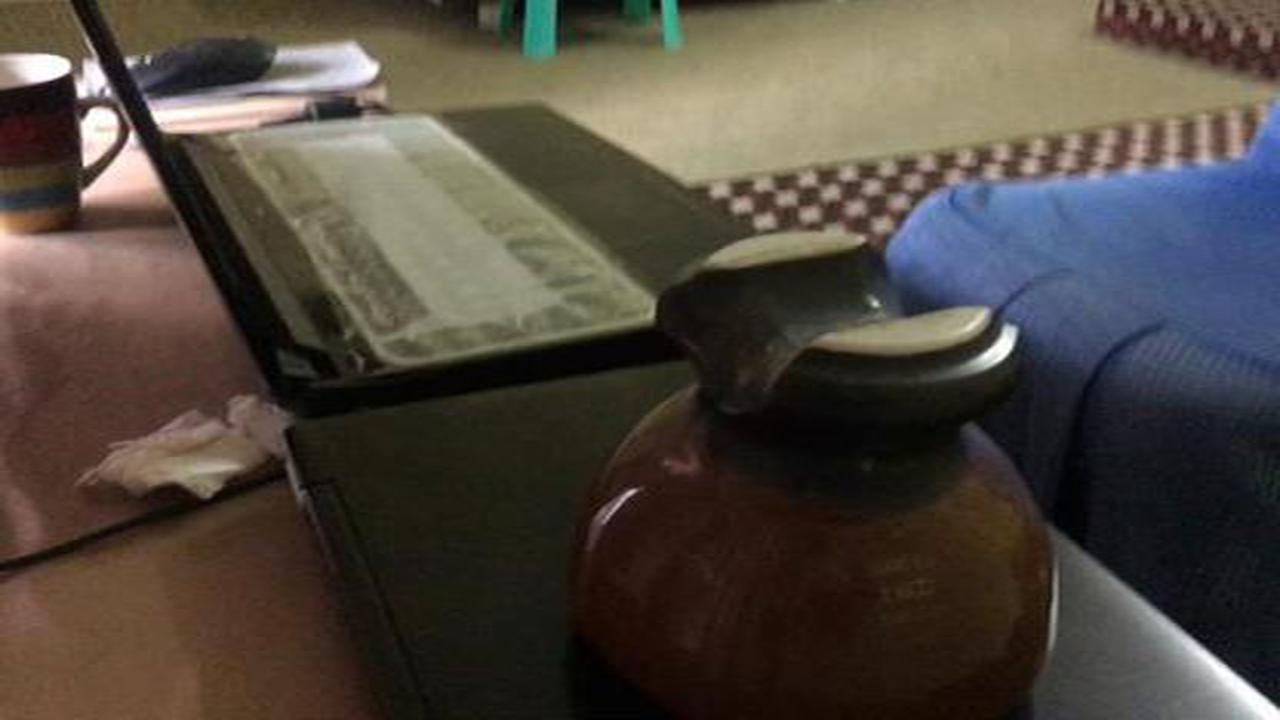insulator_pin: (567, 213, 1071, 719)
